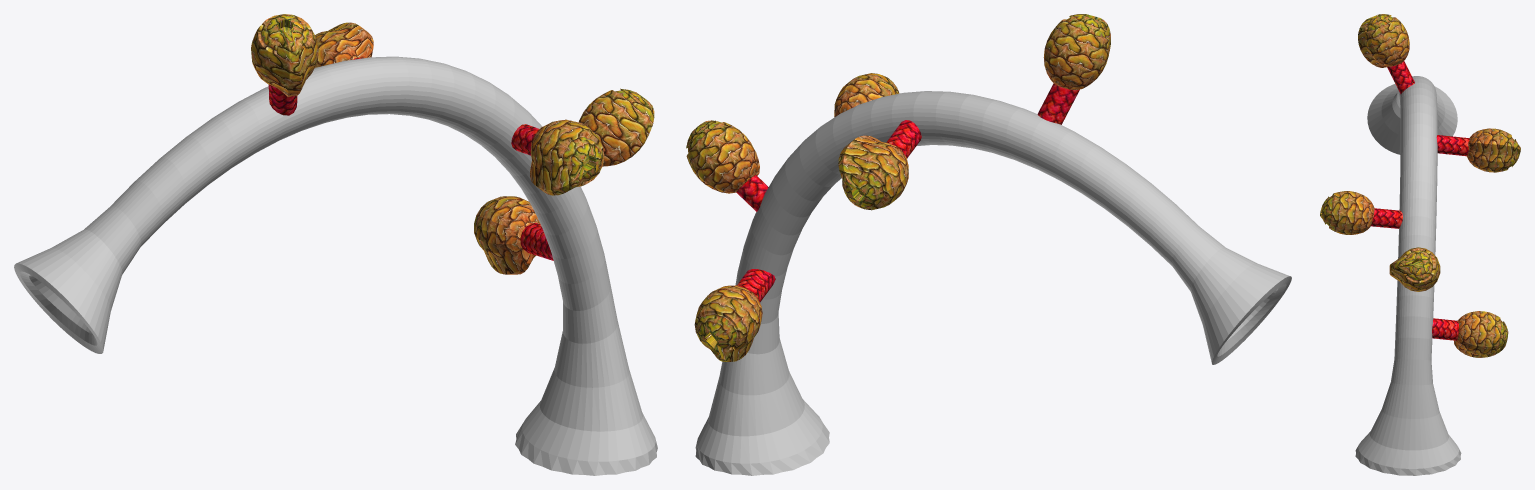
The model's file is PLANTJE.fbx.
The picture shows the model from 3 angles, left to right: view 1: azimuth 30°, elevation 25°; view 2: azimuth 150°, elevation 25°; view 3: azimuth 270°, elevation 25°; orthographic projection. The views are drawn at different scales.
Visible parts, largest first — view 1: polySurface1, pSphere3, pSphere2, pSphere1, pSphere5, pCylinder7, pSphere4; view 2: polySurface1, pSphere4, pSphere2, pSphere1, pSphere5, pCylinder7, pSphere3; view 3: polySurface1, pSphere2, pCylinder7, pSphere5, pSphere3, pSphere4, pSphere1.
Boxes of the visible parts, <box> form: polySurface1: <box>14,56,657,475</box>; pSphere3: <box>530,119,604,195</box>; pSphere2: <box>251,14,318,97</box>; pSphere1: <box>578,88,654,166</box>; pSphere5: <box>474,196,540,274</box>; pCylinder7: <box>268,58,553,260</box>; pSphere4: <box>314,22,373,68</box>; polySurface1: <box>695,91,1291,475</box>; pSphere4: <box>838,135,908,210</box>; pSphere2: <box>1043,14,1110,89</box>; pSphere1: <box>686,120,759,193</box>; pSphere5: <box>694,285,762,361</box>; pCylinder7: <box>736,83,1079,302</box>; pSphere3: <box>834,73,899,117</box>; polySurface1: <box>1355,76,1461,475</box>; pSphere2: <box>1358,14,1409,67</box>; pCylinder7: <box>1371,61,1469,340</box>; pSphere5: <box>1454,311,1508,357</box>; pSphere3: <box>1320,191,1374,234</box>; pSphere4: <box>1467,128,1520,172</box>; pSphere1: <box>1389,247,1440,291</box>.
Size of the model in its own units: 6.57 by 5.32 by 2.83.
